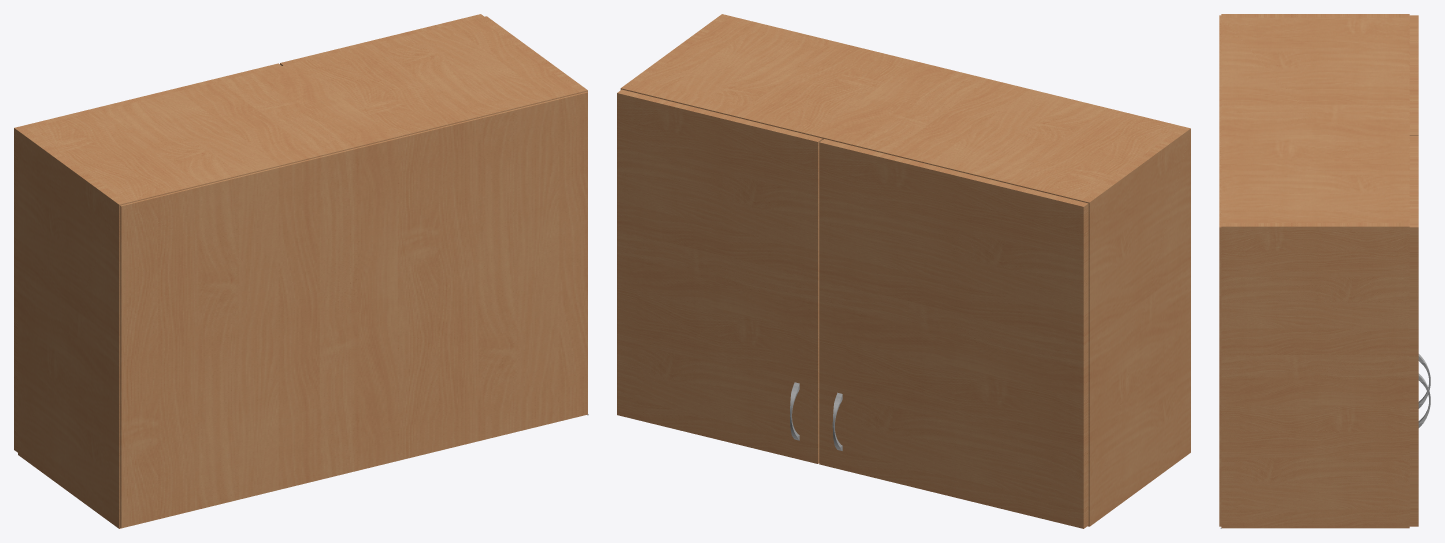
Rendered from antresol_dlya_shkafa_5.glb.
3 renders of one model, left to right at view 1: azimuth 30°, elevation 25°; view 2: azimuth 150°, elevation 25°; view 3: azimuth 270°, elevation 25°, orthographic. The views are drawn at different scales.
Parts seen in each view (by area): view 1: Shape_IndexedFaceSet.004_NON, Shape_IndexedFaceSet.008, Shape_IndexedFaceSet.006, Shape_IndexedFaceSet.003, Shape_IndexedFaceSet.005, Shape_IndexedFaceSet.001; view 2: Shape_IndexedFaceSet.003, Shape_IndexedFaceSet.001, Shape_IndexedFaceSet.008, Shape_IndexedFaceSet.006, Shape_IndexedFaceSet.005; view 3: Shape_IndexedFaceSet.005, Shape_IndexedFaceSet.008, Shape_IndexedFaceSet.001, Shape_IndexedFaceSet.004_NON, Shape_IndexedFaceSet.003, Shape_IndexedFaceSet.006.
Boxes of the visible parts, left/top/right/bottom form: Shape_IndexedFaceSet.004_NON: left=120, top=91, right=587, bottom=528; Shape_IndexedFaceSet.008: left=26, top=18, right=579, bottom=203; Shape_IndexedFaceSet.006: left=18, top=128, right=127, bottom=528; Shape_IndexedFaceSet.003: left=14, top=63, right=281, bottom=452; Shape_IndexedFaceSet.005: left=478, top=16, right=587, bottom=93; Shape_IndexedFaceSet.001: left=280, top=14, right=483, bottom=65; Shape_IndexedFaceSet.003: left=819, top=139, right=1088, bottom=528; Shape_IndexedFaceSet.001: left=617, top=89, right=822, bottom=463; Shape_IndexedFaceSet.008: left=629, top=16, right=1182, bottom=201; Shape_IndexedFaceSet.006: left=1081, top=126, right=1190, bottom=526; Shape_IndexedFaceSet.005: left=620, top=14, right=729, bottom=91; Shape_IndexedFaceSet.005: left=1221, top=223, right=1409, bottom=528; Shape_IndexedFaceSet.008: left=1221, top=17, right=1409, bottom=222; Shape_IndexedFaceSet.001: left=1409, top=136, right=1418, bottom=526; Shape_IndexedFaceSet.004_NON: left=1219, top=15, right=1221, bottom=526; Shape_IndexedFaceSet.003: left=1409, top=15, right=1418, bottom=135; Shape_IndexedFaceSet.006: left=1221, top=14, right=1409, bottom=17.
Bounding box in the file's own units: 909 × 601 × 381.
Materials: 11 (10 with a texture image).
